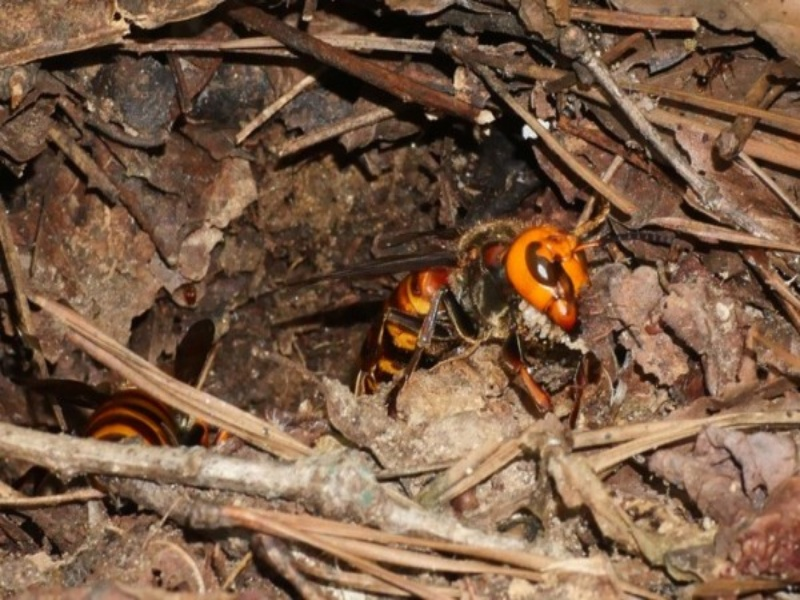asian_giant_hornet: (353, 158, 623, 410), (48, 314, 223, 447)
